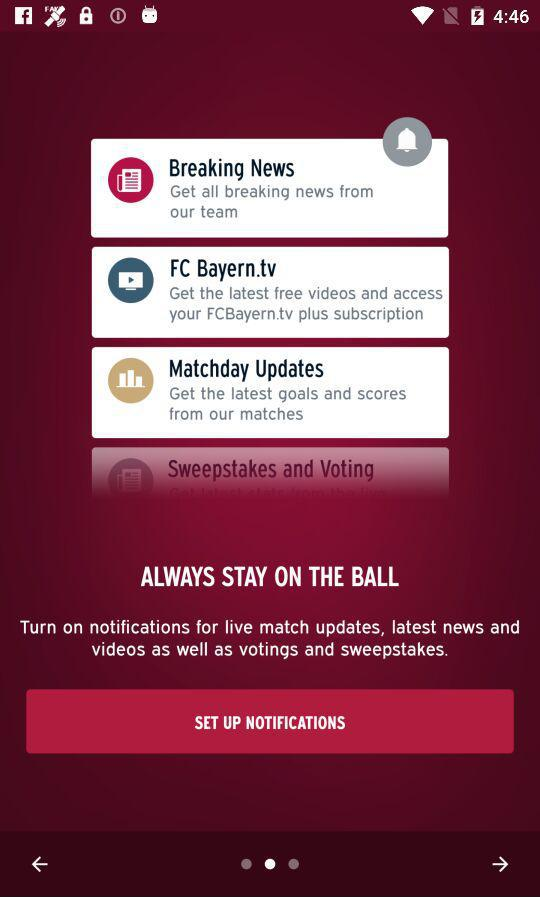Icon: (32, 855, 50, 873), (492, 856, 509, 873)
Image: (90, 116, 449, 513)
PageIndicator: (240, 857, 301, 872)
Text: (20, 618, 519, 661), (141, 565, 400, 589)
TextButton: (26, 688, 515, 755)
UpperTaskBar: (1, 1, 540, 33)
